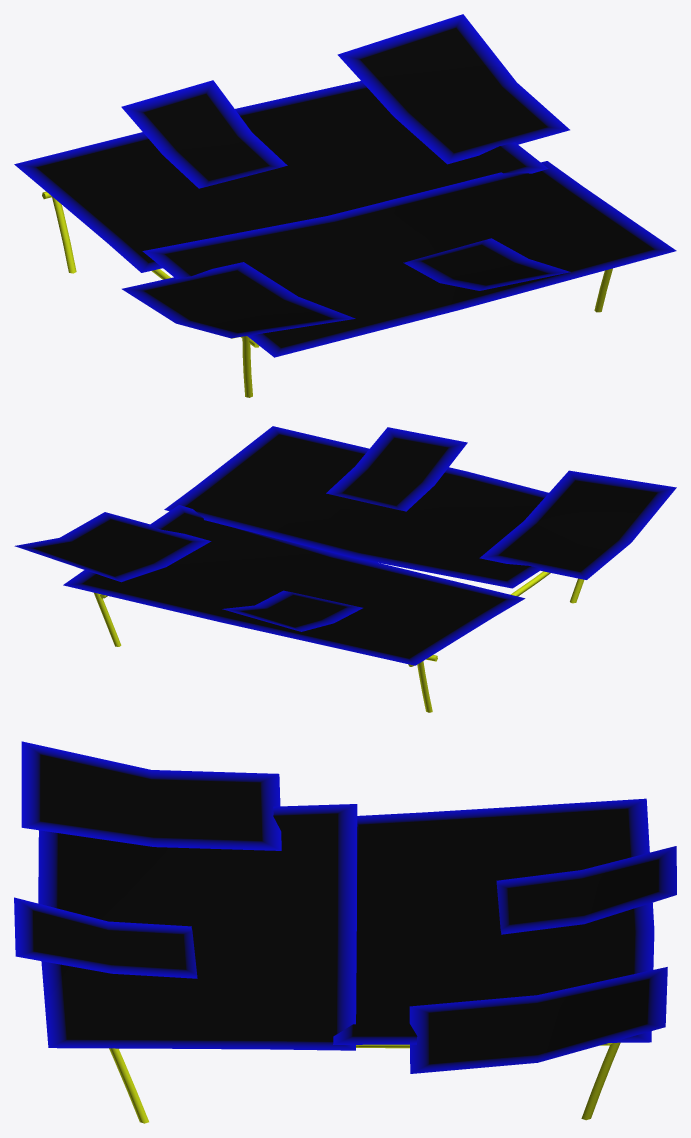
File: V_roof_tole.FBX
3 renders of one model, top to bottom at view 1: azimuth 30°, elevation 25°; view 2: azimuth 150°, elevation 25°; view 3: azimuth 270°, elevation 25°, orthographic. The views are drawn at different scales.
Parts seen in each view (by area): view 1: Plane032; view 2: Plane032; view 3: Plane032.
Part boxes in pixels (box(x1,y1,x2,y2)): Plane032: box(14, 14, 676, 397); Plane032: box(14, 426, 676, 712); Plane032: box(14, 741, 676, 1123).
Size of the model in its own units: 1449 by 325 by 1374.
